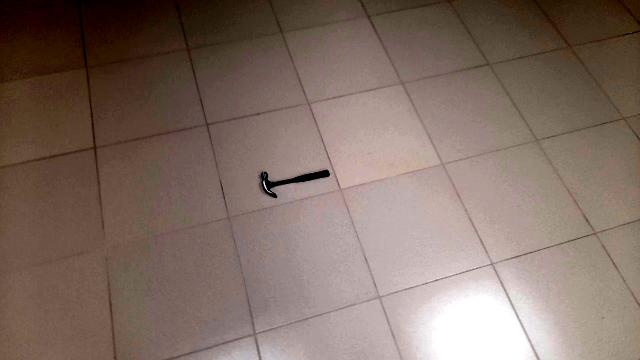hammer: (252, 160, 332, 207)
